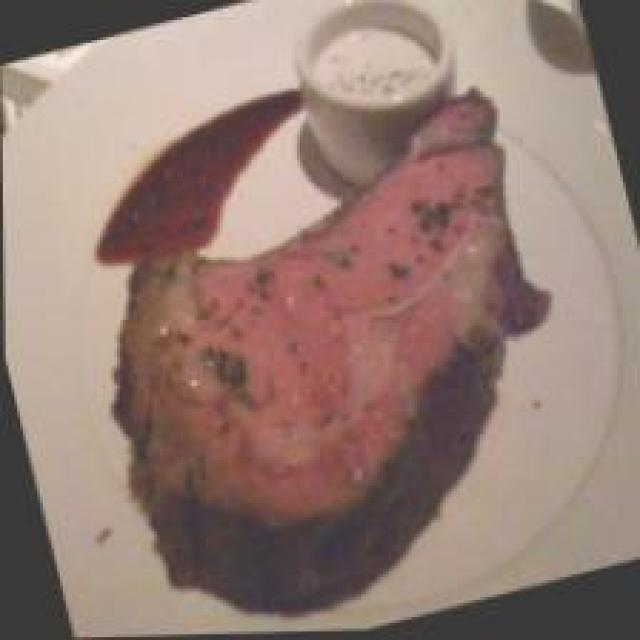rib: (69, 86, 606, 597)
